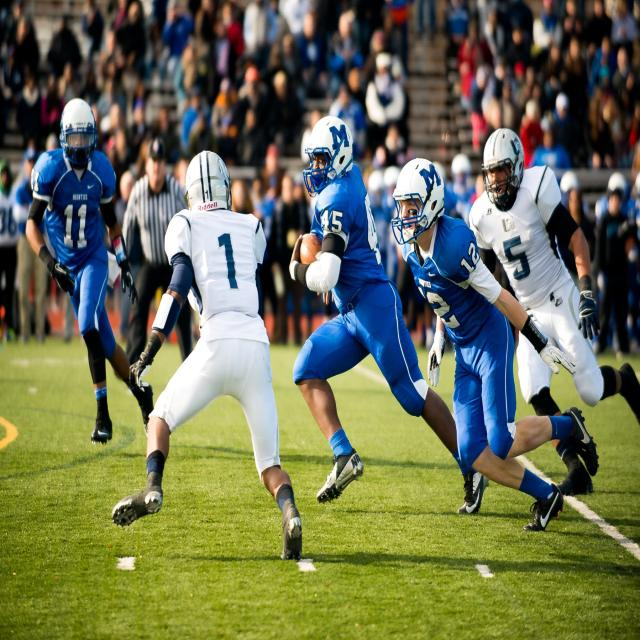body: (0, 4, 640, 354), (288, 114, 492, 516), (387, 154, 601, 531), (110, 146, 304, 561), (465, 125, 640, 496), (24, 94, 158, 444), (120, 136, 194, 378)
